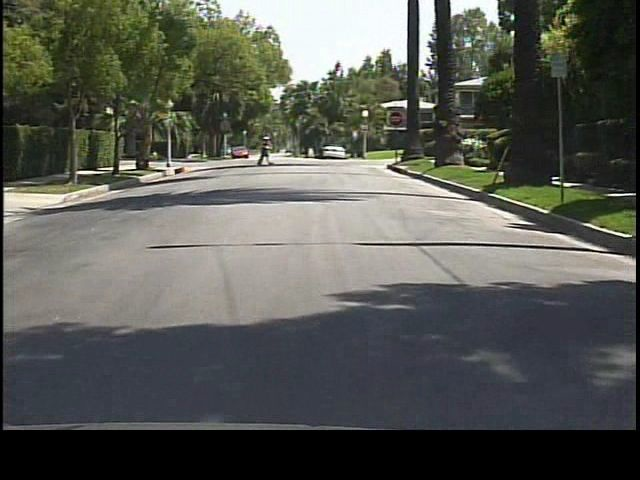person: (258, 134, 274, 167)
